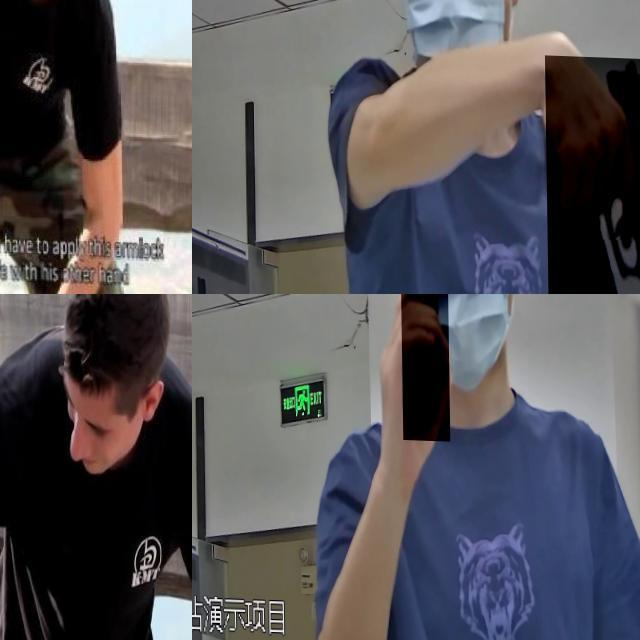-: (0, 574, 58, 640), (0, 0, 31, 75)
gun-knife-thesis - v11 Yolov5 augmented: (543, 52, 640, 294), (397, 294, 449, 459)
